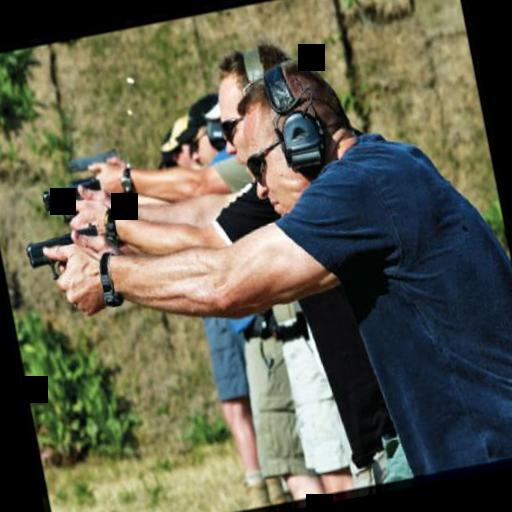Handgun: (20, 220, 104, 285), (62, 146, 126, 213), (37, 172, 107, 228)
